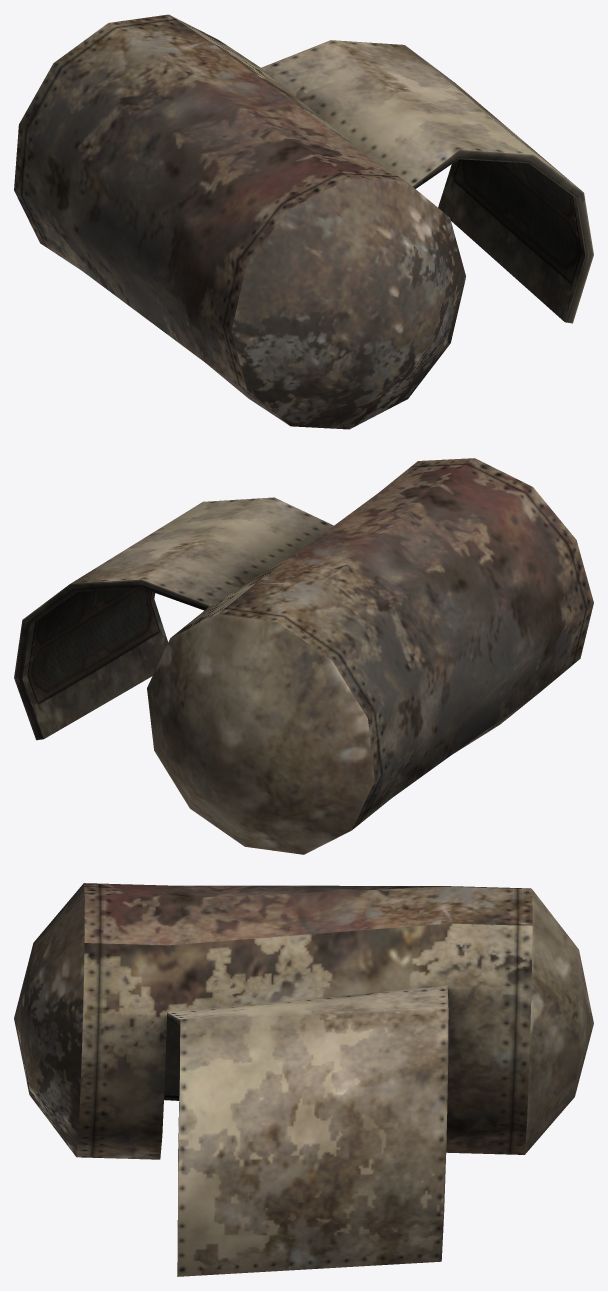
File: rubble_container_3x4.dae
The picture shows the model from 3 angles, top to bottom: view 1: azimuth 30°, elevation 25°; view 2: azimuth 150°, elevation 25°; view 3: azimuth 270°, elevation 25°; orthographic projection. The views are drawn at different scales.
Visible parts, largest first — view 1: rubble_tank; view 2: rubble_tank; view 3: rubble_tank.
Part boxes in pixels (<box>): rubble_tank: <box>14,14,593,429</box>; rubble_tank: <box>14,458,593,854</box>; rubble_tank: <box>14,883,593,1276</box>.
Bounding box in the file's own units: 8.97 × 10.73 × 5.15.
Materials: 1 (1 with a texture image).
